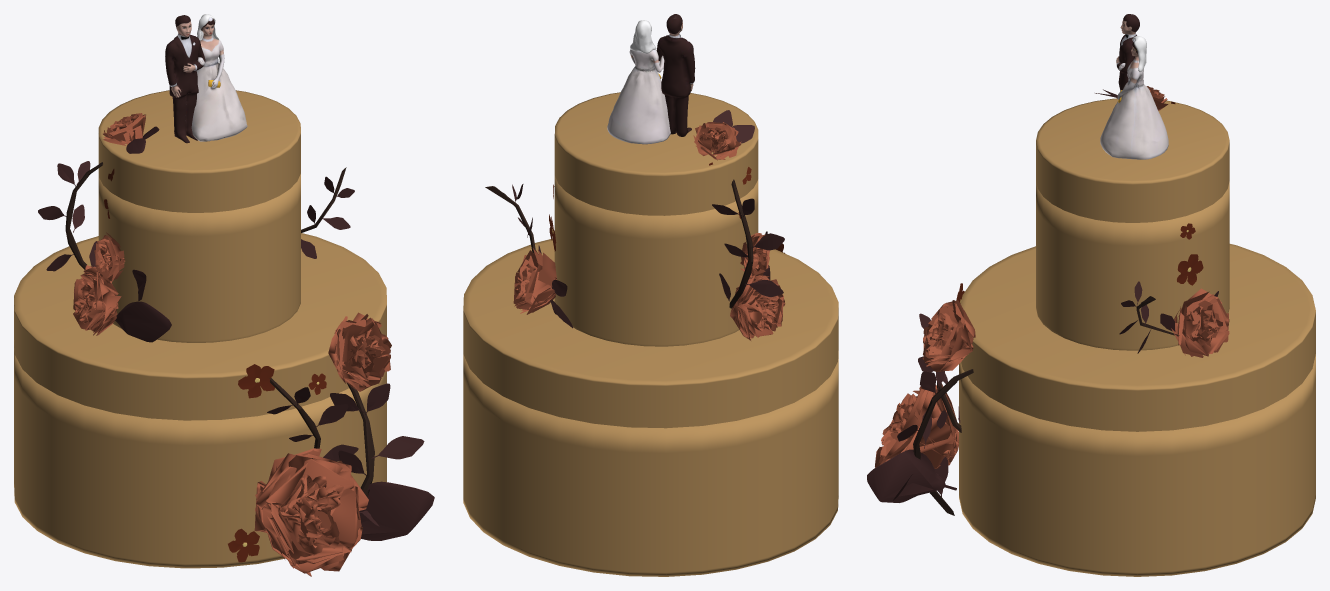
File: 2-tier-caramel-roses-bridegroom.glb
3 renders of one model, left to right at view 1: azimuth 30°, elevation 25°; view 2: azimuth 150°, elevation 25°; view 3: azimuth 270°, elevation 25°, orthographic. The views are drawn at different scales.
Parts seen in each view (by area): view 1: Cylinder.023, Cylinder.013, grid.025, 13501_Cake_Topper_Bride_Groom_v1_L1.003, grid.024, Plane.049, Plane.059, grid.026, Plane.056, Plane.058, Plane.052, Plane.045 (+4 smaller); view 2: Cylinder.023, Cylinder.013, 13501_Cake_Topper_Bride_Groom_v1_L1.003, grid.026, Plane.056, grid.028, grid.014, grid.027, Plane.045; view 3: Cylinder.023, Cylinder.013, 13501_Cake_Topper_Bride_Groom_v1_L1.003, grid.025, grid.028, Plane.049, grid.024, Plane.059, Plane.045, Plane.058.
Boxes of the visible parts, x1,y1,x2,y2 form: Cylinder.023: (14, 233, 386, 568); Cylinder.013: (98, 90, 300, 342); grid.025: (254, 448, 368, 576); 13501_Cake_Topper_Bride_Groom_v1_L1.003: (165, 14, 247, 143); grid.024: (328, 312, 391, 391); Plane.049: (359, 481, 434, 540); Plane.059: (330, 383, 424, 526); grid.026: (73, 264, 121, 335); Plane.056: (38, 161, 102, 271); Plane.058: (267, 378, 358, 461); Plane.052: (115, 301, 171, 342); Plane.045: (301, 167, 354, 258); Cylinder.023: (463, 239, 838, 576); Cylinder.013: (554, 92, 758, 346); 13501_Cake_Topper_Bride_Groom_v1_L1.003: (607, 14, 695, 144); grid.026: (730, 275, 785, 340); Plane.056: (712, 179, 784, 308); grid.028: (513, 248, 556, 314); grid.014: (693, 122, 741, 160); grid.027: (740, 233, 769, 280); Plane.045: (485, 184, 541, 254); Cylinder.023: (959, 244, 1315, 576); Cylinder.013: (1036, 98, 1229, 350); 13501_Cake_Topper_Bride_Groom_v1_L1.003: (1100, 14, 1168, 159); grid.025: (875, 383, 958, 468); grid.028: (1171, 288, 1229, 357); Plane.049: (867, 449, 956, 502); grid.024: (922, 300, 975, 371); Plane.059: (893, 369, 973, 515); Plane.045: (1119, 281, 1179, 353); Plane.058: (918, 313, 961, 432).
Bounding box in the file's own units: 3.4 × 4.92 × 4.11.
Materials: 7 (1 with a texture image).
